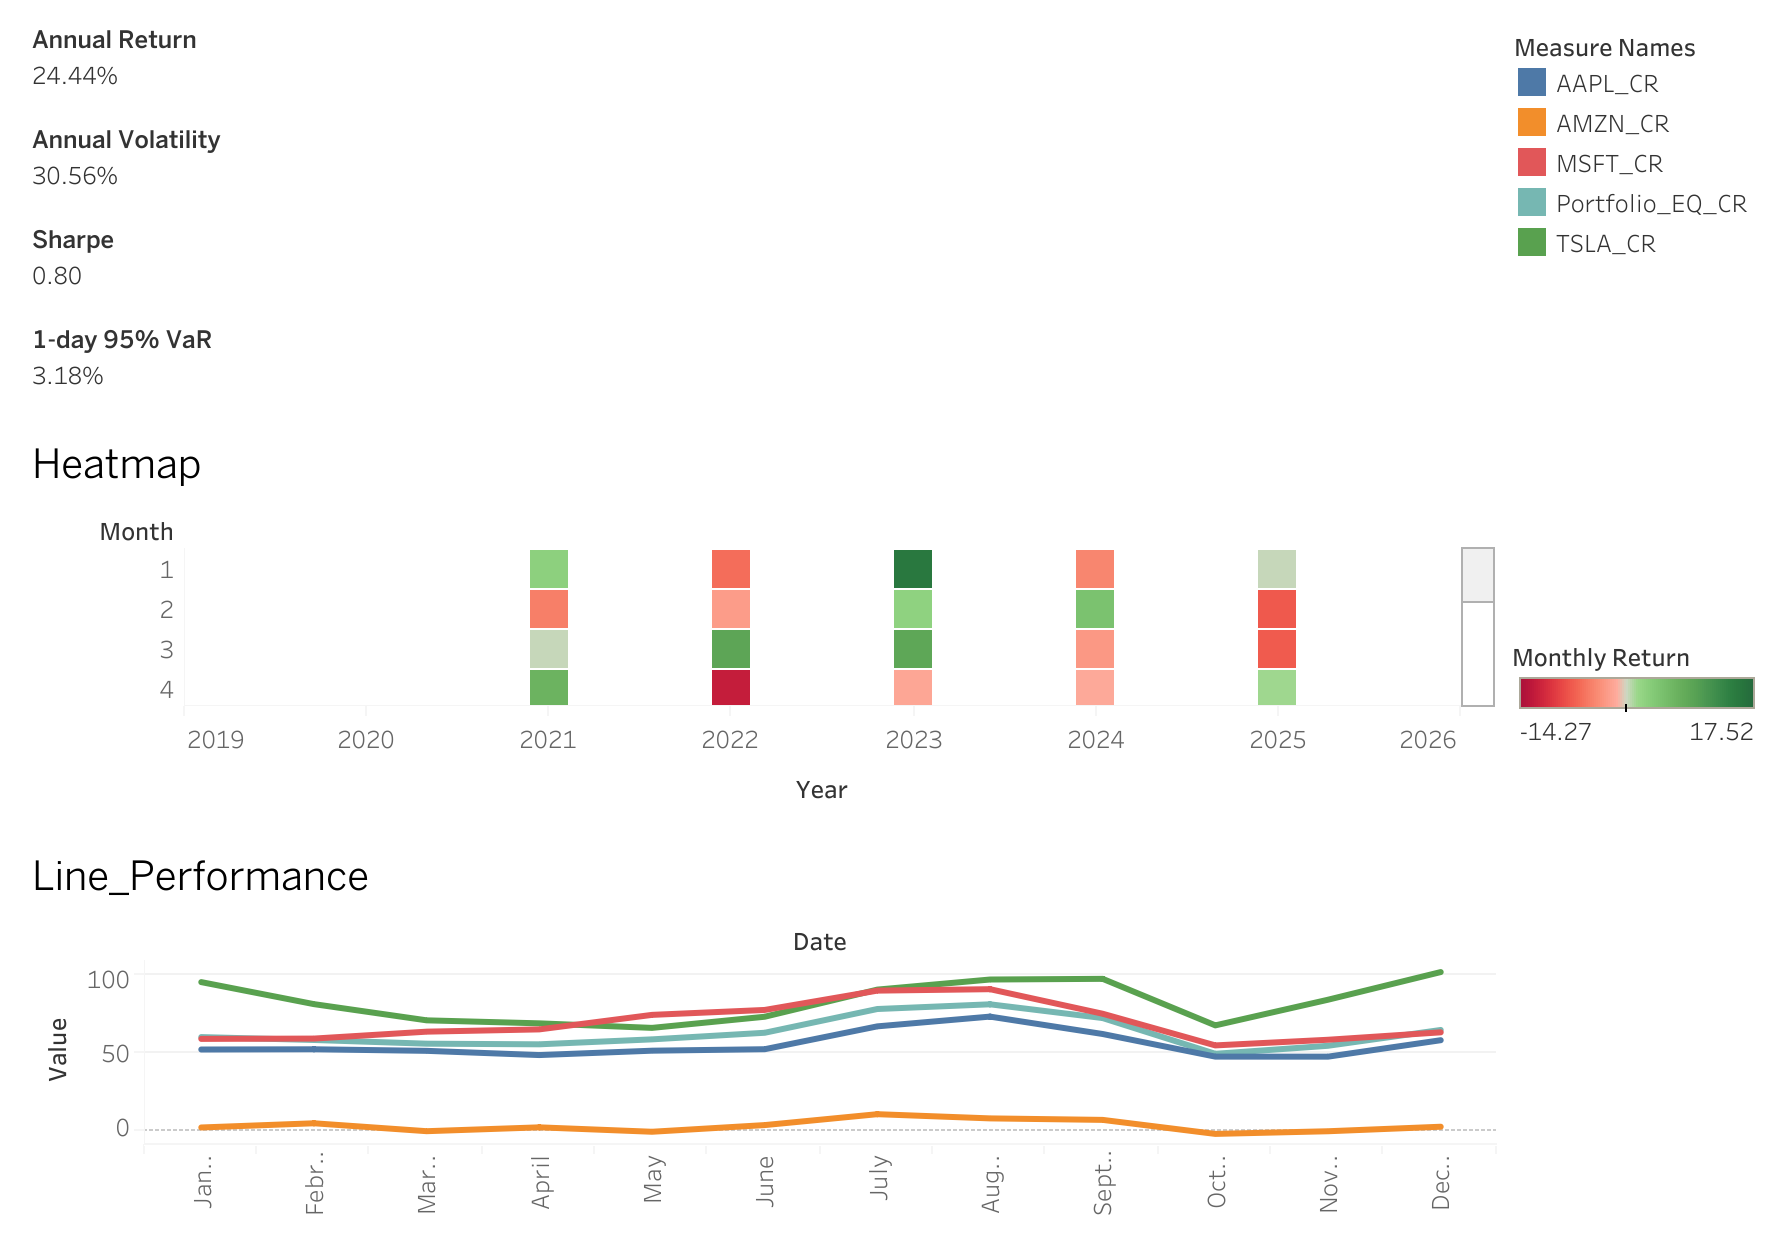

Layout of this report page (visuals, bound fields, positions):
{"tool":"tableau","page":{"name":"Dashboard 1","canvas":[1000,1000],"units":"permille","ordinal":0},"visuals":[{"type":"worksheet","title":"KPI_Return","mark":"Automatic","box":[6.5,12.4,878,80.5]},{"type":"legend","title":"Line_Performance","param":"[federated.1xz8qrg1yiwh0l13270pu0z8qjed].[:Measure Names]","box":[884.5,12.4,109,487.6]},{"type":"worksheet","title":"KPI_Vol","mark":"Automatic","box":[6.5,92.9,878,80.5]},{"type":"worksheet","title":"KPI_Sharpe","mark":"Automatic","box":[6.5,173.4,878,80.5]},{"type":"worksheet","title":"KPI_VaR","mark":"Automatic","box":[6.5,253.9,878,80.5]},{"type":"worksheet","title":"Heatmap","mark":"Square","rows":["Month"],"cols":["Year"],"box":[6.5,333.9,878,332.3]},{"type":"legend","title":"Heatmap","param":"[federated.14vf30m0unlx801co3h1g00k9ryb].[sum:MonthlyReturn:qk]","box":[884.5,500,109,487.6]},{"type":"worksheet","title":"Line_Performance","mark":"Automatic","cols":["Date"],"box":[6.5,666.1,878,321.5]}]}

Visuals, with their boxes on the dashboard's canvas, which has no fixed pixel size, in thousandths of its width and height (x1, y1, x2, y2). These are canvas units, not pixel positions in the 1786x1242 screenshot, which may show the page scaled, cropped or inside an application window:
"KPI_Return" worksheet: select_region(6, 12, 884, 93)
"Line_Performance" legend: select_region(884, 12, 994, 500)
"KPI_Vol" worksheet: select_region(6, 93, 884, 173)
"KPI_Sharpe" worksheet: select_region(6, 173, 884, 254)
"KPI_VaR" worksheet: select_region(6, 254, 884, 334)
"Heatmap" worksheet (Square marks): select_region(6, 334, 884, 666)
"Heatmap" legend: select_region(884, 500, 994, 988)
"Line_Performance" worksheet: select_region(6, 666, 884, 988)
